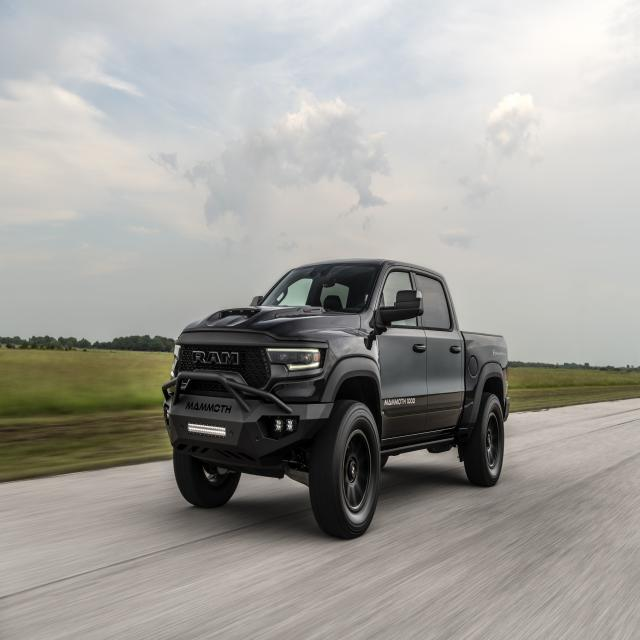person: (161, 256, 510, 540)
